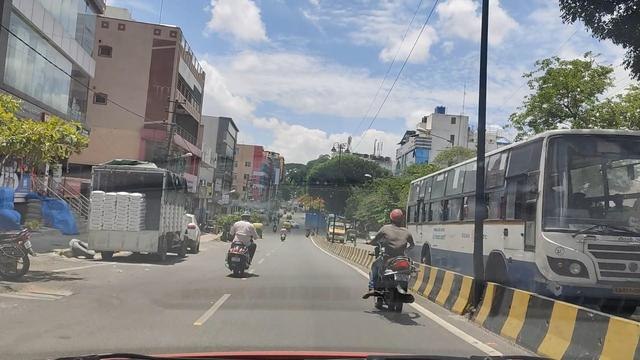HMV: (81, 148, 207, 266)
LMV: (353, 212, 418, 321), (228, 214, 256, 277)
